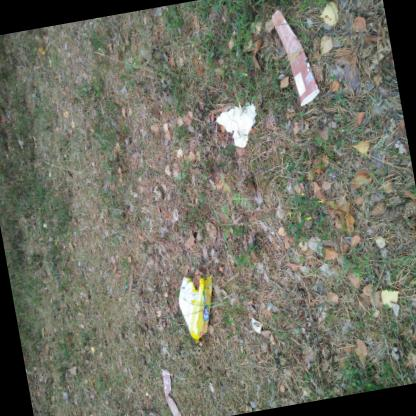Paper: (271, 8, 319, 106), (216, 101, 256, 146), (162, 368, 181, 416)
Plastic: (179, 276, 212, 344)
